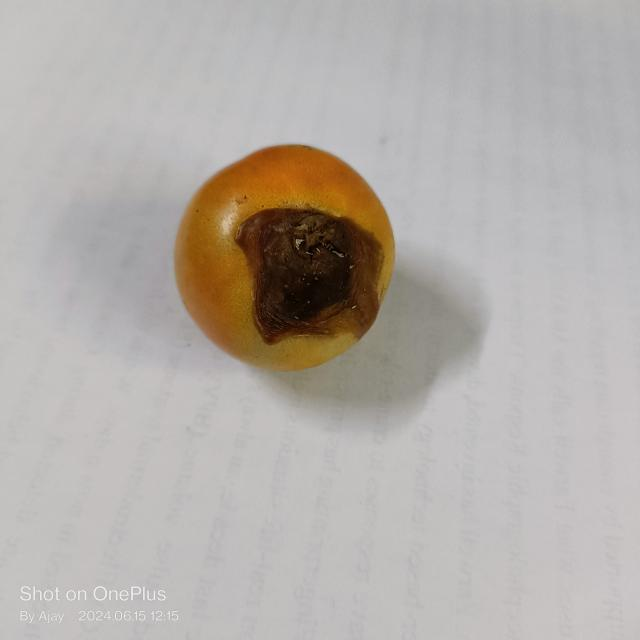Anthrocnose: (235, 207, 383, 346)
